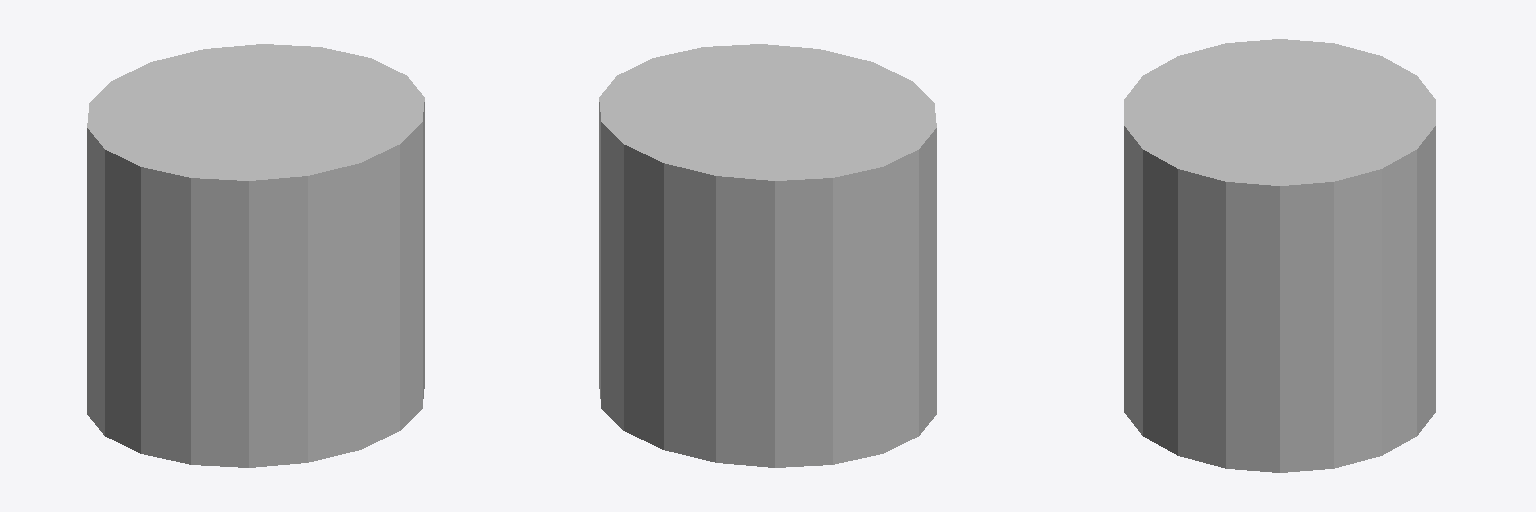
File: original-6.obj
3 renders of one model, left to right at view 1: azimuth 30°, elevation 25°; view 2: azimuth 150°, elevation 25°; view 3: azimuth 270°, elevation 25°, orthographic.
Parts seen in each view (by area): view 1: mesh4/mesh4-geometry#mesh4-geometry; view 2: mesh4/mesh4-geometry#mesh4-geometry; view 3: mesh4/mesh4-geometry#mesh4-geometry.
Boxes of the visible parts, x1=… form: mesh4/mesh4-geometry#mesh4-geometry: x1=87, y1=44, x2=424, y2=467; mesh4/mesh4-geometry#mesh4-geometry: x1=599, y1=44, x2=936, y2=467; mesh4/mesh4-geometry#mesh4-geometry: x1=1124, y1=39, x2=1435, y2=472.
Bounding box in the file's own units: 0.0429 × 0.039 × 0.0384.